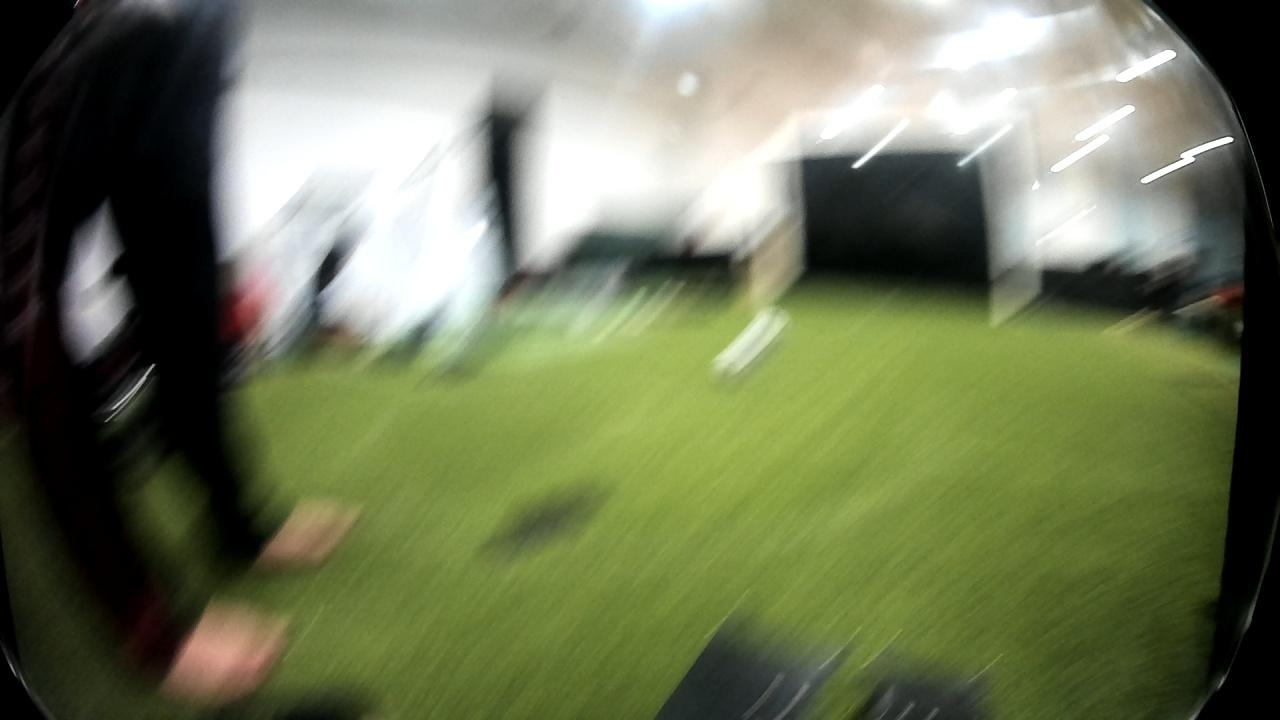ball: (709, 302, 791, 390)
